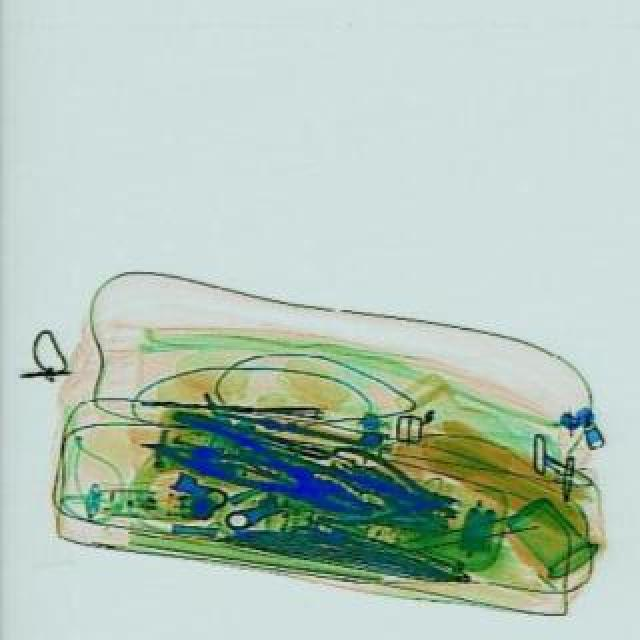wrench: (150, 404, 382, 532), (318, 442, 466, 544)
